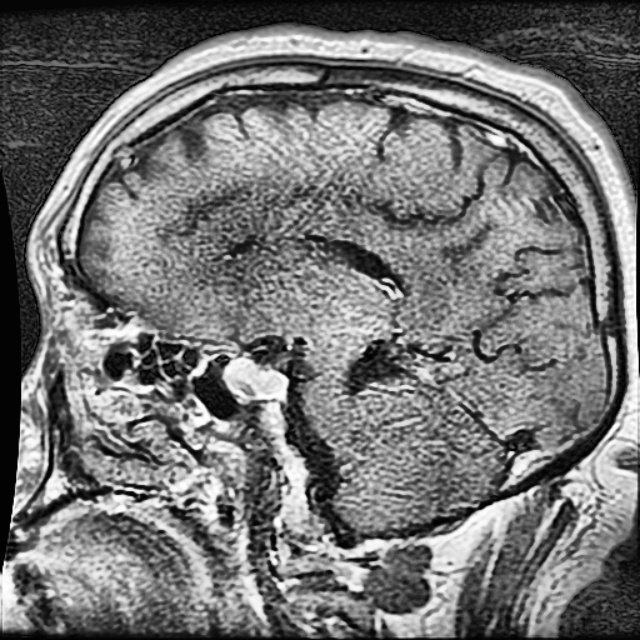Pituitary: (224, 359, 285, 400)
